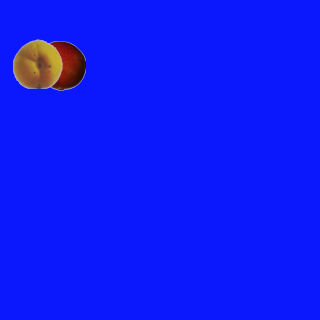Apple Braeburn: (35, 40, 85, 90)
Peach 2: (12, 38, 62, 88)
